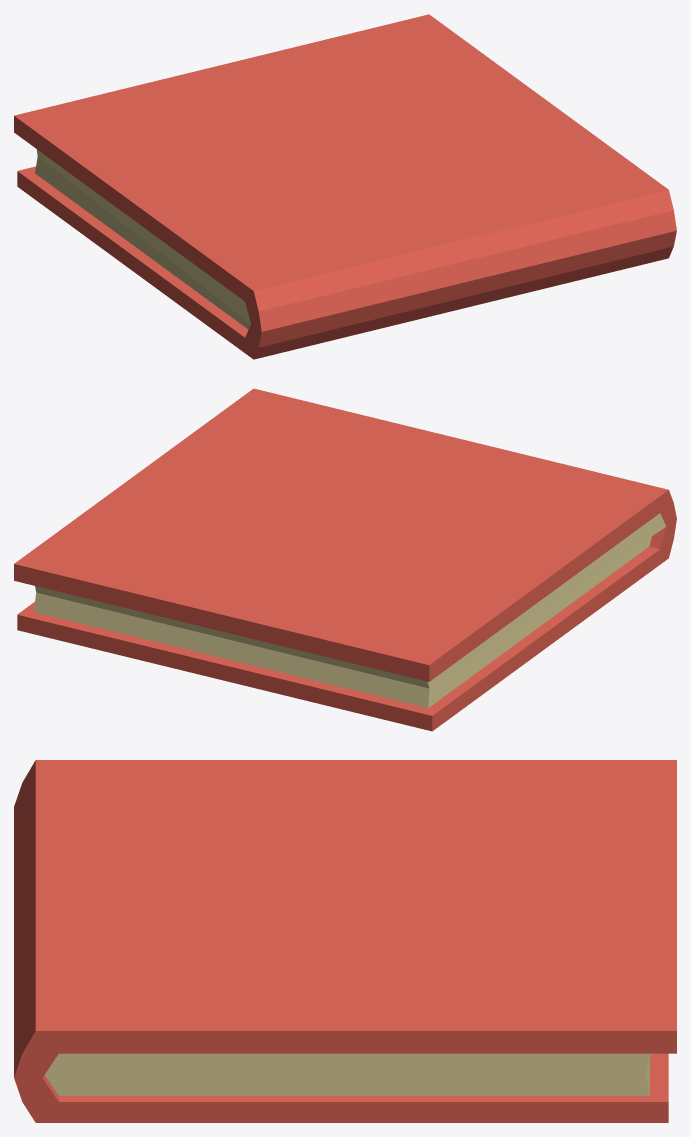
The model's file is books.fbx.
3 views of the same model, one above another, from view 1: azimuth 30°, elevation 25°; view 2: azimuth 150°, elevation 25°; view 3: azimuth 270°, elevation 25° (orthographic). The views are drawn at different scales.
Parts seen in each view (by area): view 1: Cube, Cube.001; view 2: Cube, Cube.001; view 3: Cube, Cube.001.
Part boxes in pixels (<box>): Cube: <box>14,14,676,359</box>; Cube.001: <box>35,149,250,329</box>; Cube: <box>14,388,676,731</box>; Cube.001: <box>33,513,665,707</box>; Cube: <box>14,760,676,1122</box>; Cube.001: <box>45,1053,651,1095</box>.
Bounding box in the file's own units: 200 × 31.56 × 207.
